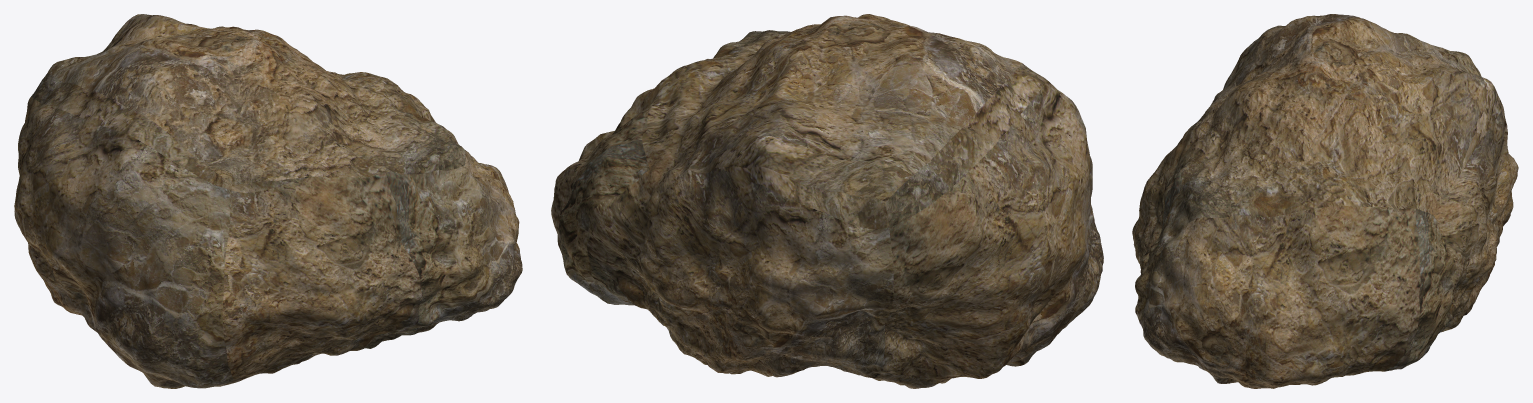
File: Rock2.obj
3 views of the same model, side by side, from view 1: azimuth 30°, elevation 25°; view 2: azimuth 150°, elevation 25°; view 3: azimuth 270°, elevation 25° (orthographic). The views are drawn at different scales.
Visible parts, largest first — view 1: Cube_001; view 2: Cube_001; view 3: Cube_001.
Part boxes in pixels (bbox=[...]): Cube_001: bbox=[14, 14, 522, 388]; Cube_001: bbox=[551, 14, 1103, 388]; Cube_001: bbox=[1132, 14, 1518, 388].
Size of the model in its own units: 196 by 129 by 162.
Materials: 1 (1 with a texture image).
